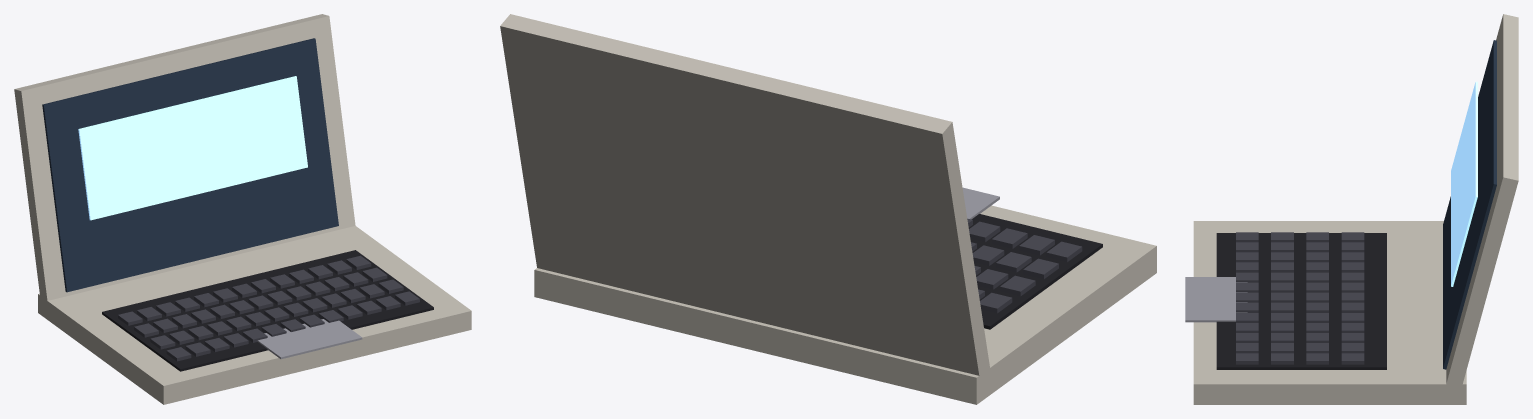
The model's file is laptop.glb.
3 views of the same model, side by side, from view 1: azimuth 30°, elevation 25°; view 2: azimuth 150°, elevation 25°; view 3: azimuth 270°, elevation 25° (orthographic). The views are drawn at different scales.
Visible parts, largest first — view 1: laptop; view 2: laptop; view 3: laptop.
Part boxes in pixels (left/top/right/bottom): laptop: left=14, top=14, right=471, bottom=404; laptop: left=500, top=14, right=1156, bottom=404; laptop: left=1185, top=14, right=1518, bottom=404.
Size of the model in its own units: 0.34 by 0.221 by 0.2933.
